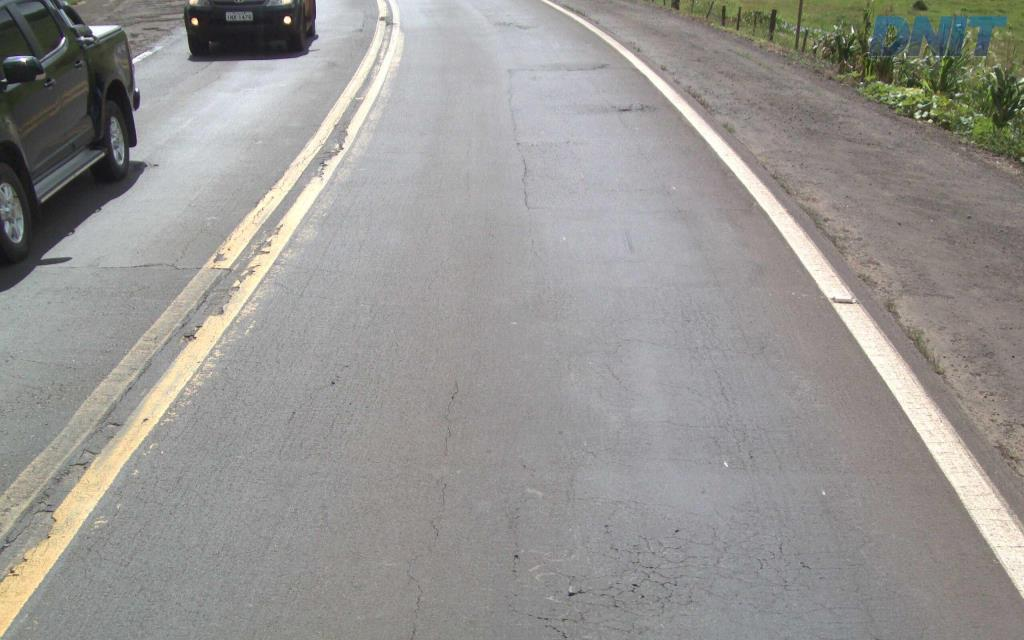crack: (626, 570, 684, 617)
